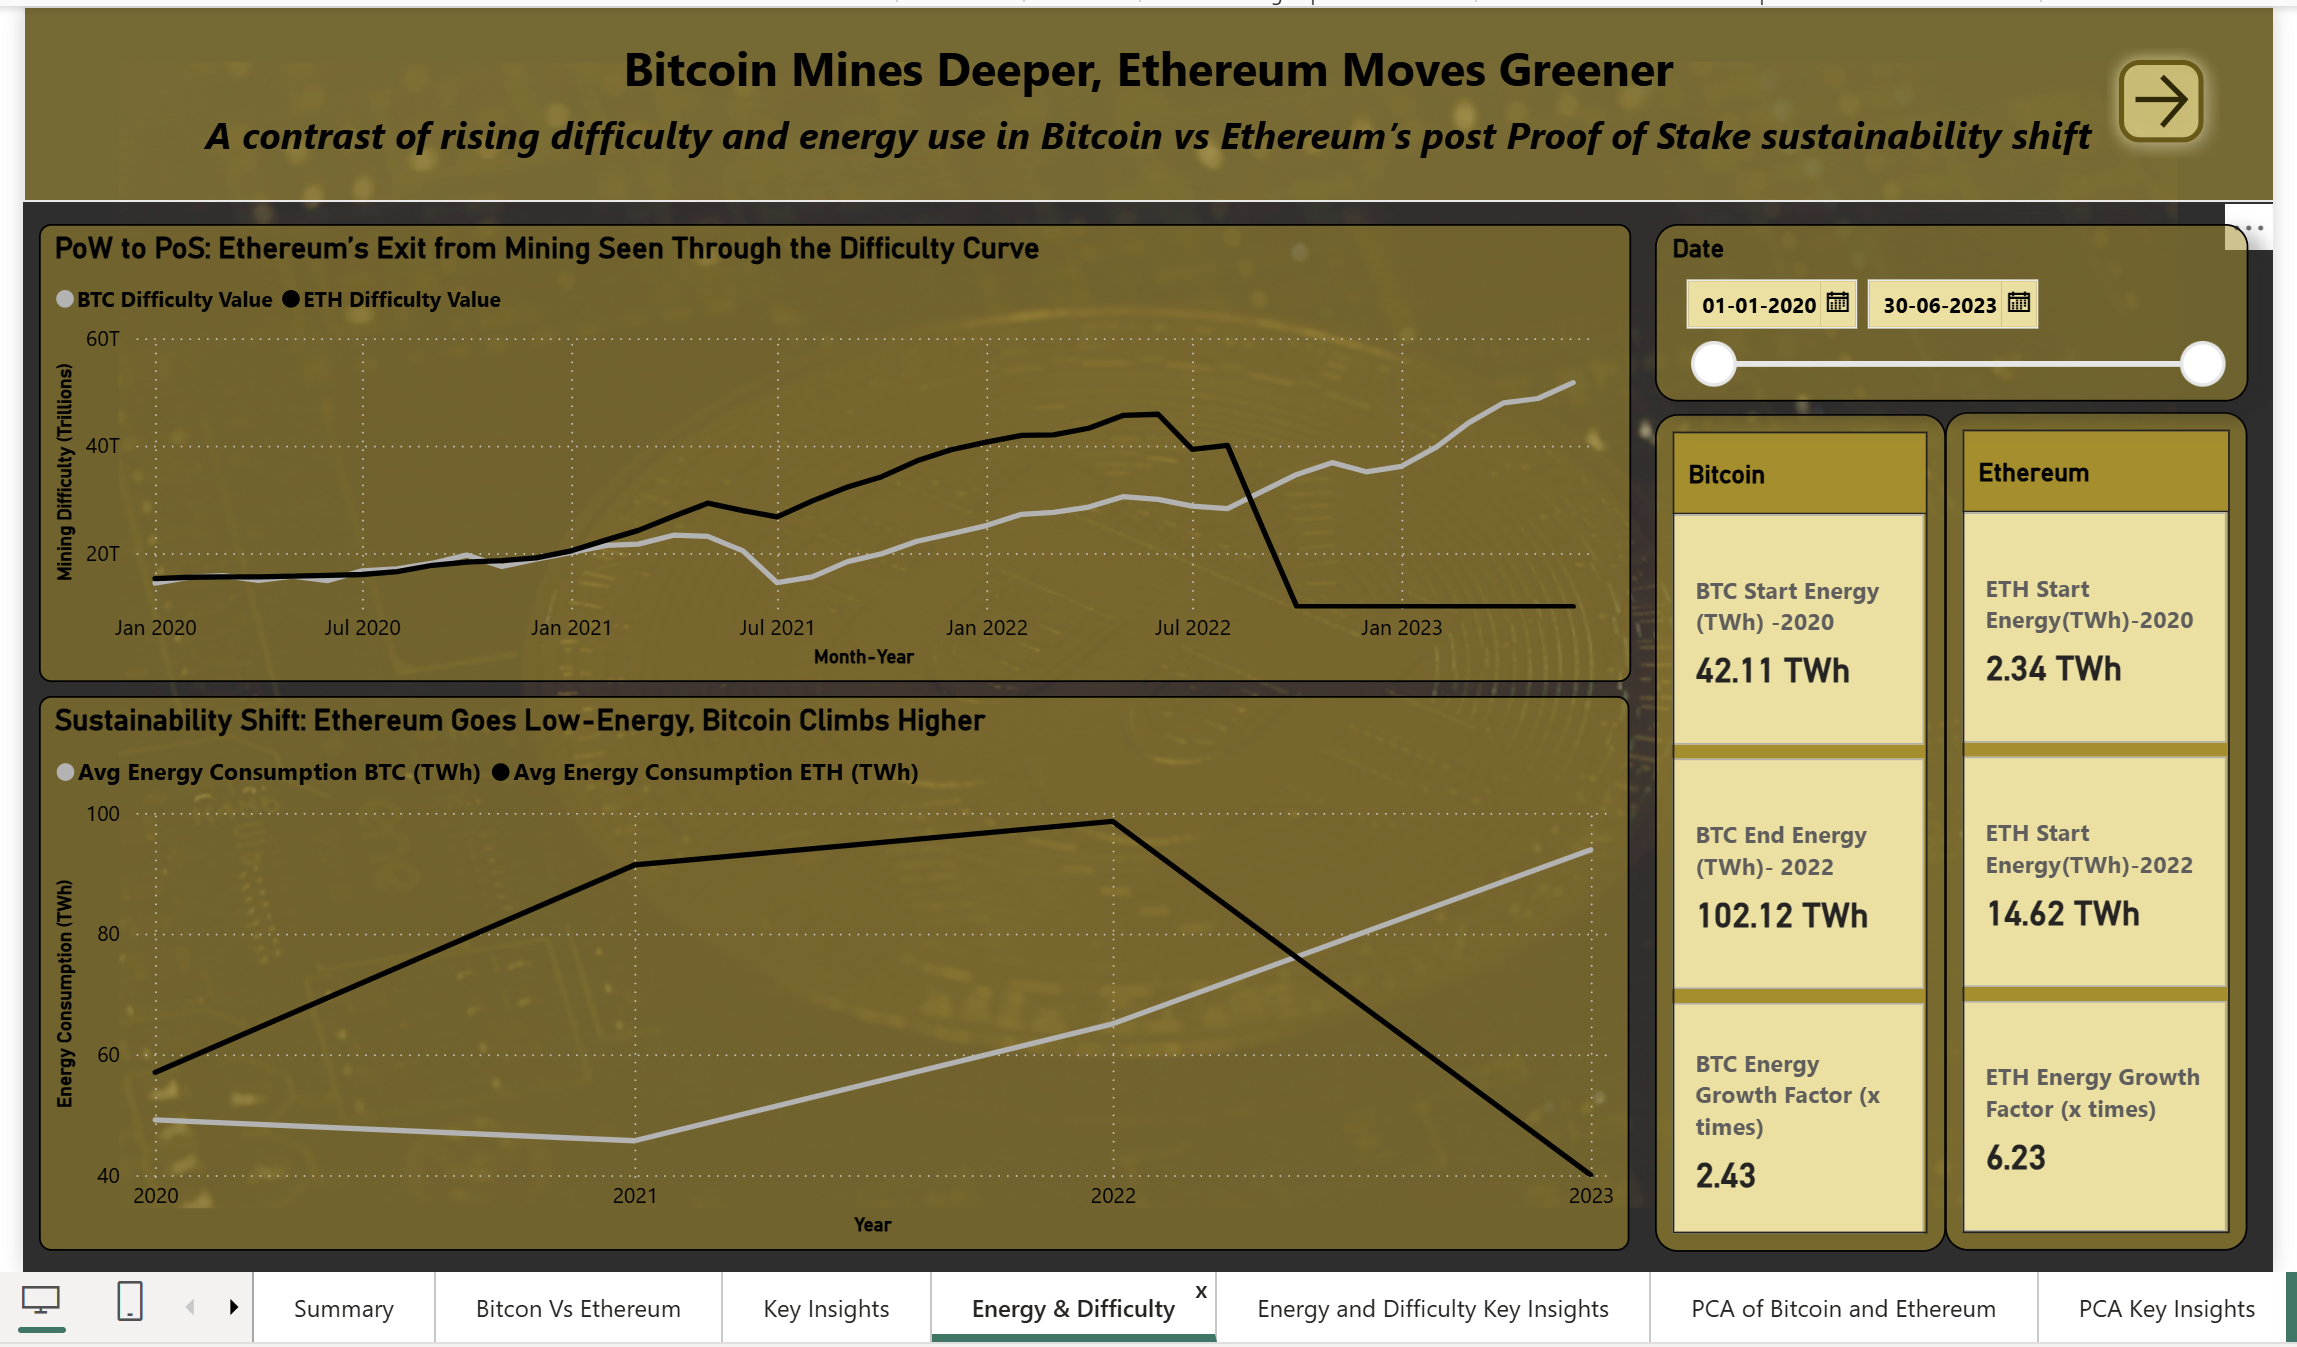

This screenshot's page, from the dashboard's own definition file:
{"tool":"powerbi","page":{"name":"Energy & Difficulty","canvas":[1280,720],"ordinal":3},"visuals":[{"type":"cardVisual","fields":{"Data":["Master_Bitcoin.StartValue_Energy","Master_Bitcoin.EndValue_Energy","Master_Bitcoin.BTC_Energy_Change_Debug"],"Rows":["Master_Bitcoin.Name"]},"box":[927.8,231.6,165.3,476.5],"z":0},{"type":"cardVisual","fields":{"Data":["Master_Ethereum.StartValue_Energy_ETH","Master_Ethereum.Eth_EndValue_Energy","Master_Ethereum.ETH_Energy_Change_Debug"],"Rows":["Master_Ethereum.Name"]},"box":[1093.2,231.4,172.1,477.2],"z":1000},{"type":"lineChart","title":"PoW to PoS: Ethereum’s Exit from Mining Seen Through the Difficulty Curve","fields":{"Category":["Dim_Date.Date.Variation.Date Hierarchy.Year","Dim_Date.Date.Variation.Date Hierarchy.Month"],"Y":["Avg(Master_Bitcoin.Daily_Difficulty_Value)"],"Y2":["Avg(Master_Ethereum.Daily_Difficulty_Value)"]},"box":[8.8,123.5,905.5,260.7],"z":2000},{"type":"textbox","box":[0,0,1280.3,111.3],"z":3000},{"type":"lineChart","title":"Sustainability Shift: Ethereum Goes Low-Energy, Bitcoin Climbs Higher","fields":{"Category":["Dim_Date.Date.Variation.Date Hierarchy.Year","Dim_Date.Date.Variation.Date Hierarchy.Month","Dim_Date.Date.Variation.Date Hierarchy.Day"],"Y":["Avg(Master_Bitcoin.Energy-consumption)"],"Y2":["Avg(Master_Ethereum.Energy-consumption)"]},"box":[9.4,392.8,904.6,315.3],"z":4000},{"type":"actionButton","box":[1183,22,66.3,65],"z":7000},{"type":"slicer","title":"Date","fields":{"Values":["Dim_Date.Date"]},"box":[927.9,123.5,337.5,101.2],"z":8000}]}

Visuals, with their boxes on the page's 1280x720 design canvas (x1, y1, x2, y2). These are canvas units, not pixel positions in the 2297x1347 screenshot, which may show the page scaled, cropped or inside an application window:
cardVisual - Master_Bitcoin.StartValue_Energy x Master_Bitcoin.EndValue_Energy: [left=928, top=232, right=1093, bottom=708]
cardVisual - Master_Ethereum.StartValue_Energy_ETH x Master_Ethereum.Eth_EndValue_Energy: [left=1093, top=231, right=1265, bottom=709]
"PoW to PoS: Ethereum’s Exit from Mining Seen Through the Difficulty Curve" lineChart: [left=9, top=124, right=914, bottom=384]
textbox: [left=0, top=0, right=1280, bottom=111]
"Sustainability Shift: Ethereum Goes Low-Energy, Bitcoin Climbs Higher" lineChart: [left=9, top=393, right=914, bottom=708]
actionButton: [left=1183, top=22, right=1249, bottom=87]
"Date" slicer: [left=928, top=124, right=1265, bottom=225]
